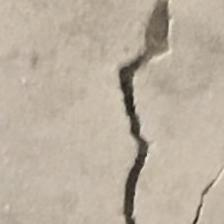Crack: (97, 3, 224, 224)
